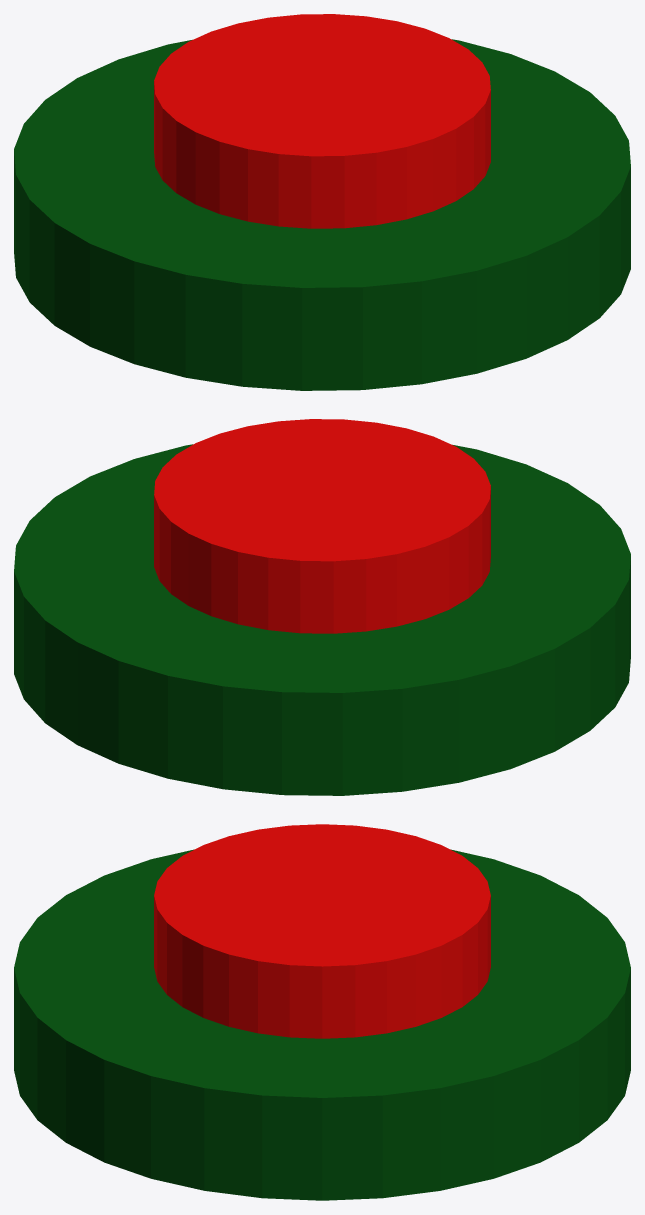
The model's file is Mine.fbx.
3 renders of one model, top to bottom at view 1: azimuth 30°, elevation 25°; view 2: azimuth 150°, elevation 25°; view 3: azimuth 270°, elevation 25°, orthographic.
Visible parts, largest first — view 1: Cylinder, Cylinder.001; view 2: Cylinder, Cylinder.001; view 3: Cylinder, Cylinder.001.
Part boxes in pixels (<box>): Cylinder: <box>14,39,630,390</box>; Cylinder.001: <box>154,14,490,228</box>; Cylinder: <box>14,444,630,795</box>; Cylinder.001: <box>154,419,490,633</box>; Cylinder: <box>14,849,630,1200</box>; Cylinder.001: <box>154,824,490,1038</box>.
Bounding box in the file's own units: 2 × 0.626 × 2.
